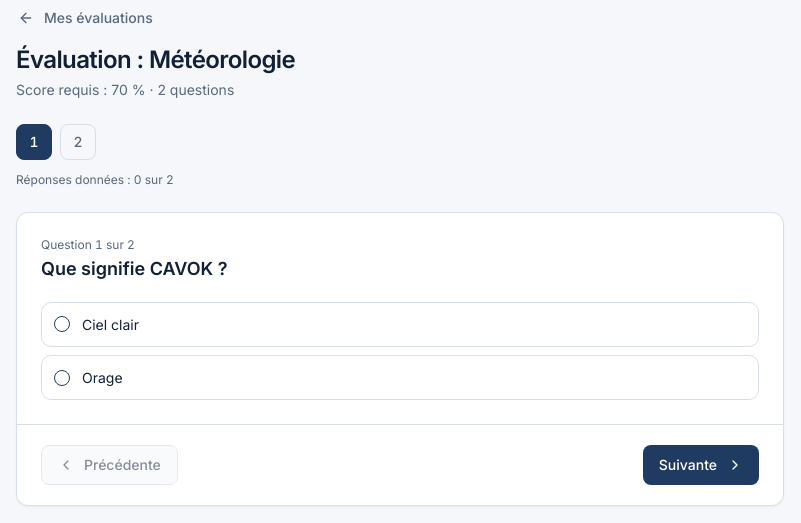
Test case: Passer une évaluation › marque comme répondue la question à laquelle on vient de répondre, pas une autre
Expected: the heading "Évaluation : Météorologie" is shown, [16,44,295,76]
Click the radio button named "Ciel clair" next to "Ciel clair" at (62, 324), box [54,316,70,332]
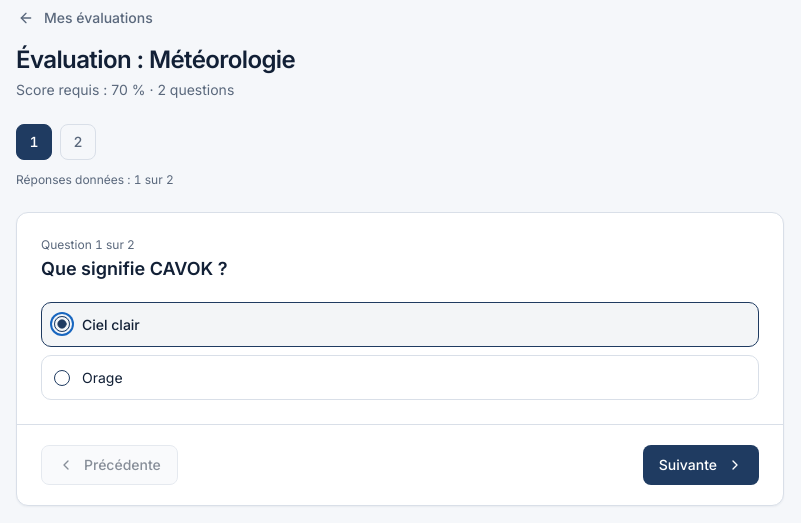
Expected: the button named "Question 1, répondue" is shown, [16,124,52,160]
Expected: the radio button named "Ciel clair" next to "Ciel clair" is checked, [54,316,70,332]
Expected: the text "Réponses données : 1 sur 2" is shown, [16,172,174,187]
